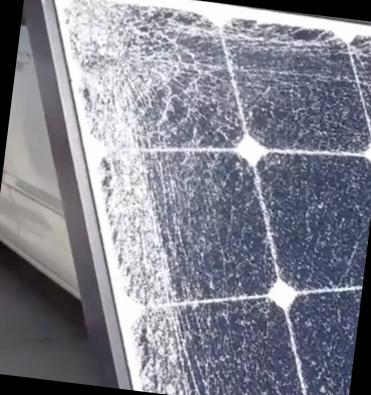Crack: (48, 0, 258, 176)
